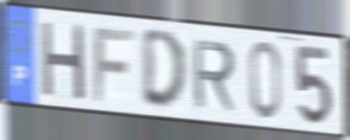0: (247, 39, 283, 122)
5: (293, 43, 336, 127)
D: (140, 27, 190, 114)
F: (91, 26, 137, 105)
H: (39, 18, 88, 103)
R: (190, 38, 238, 114)
